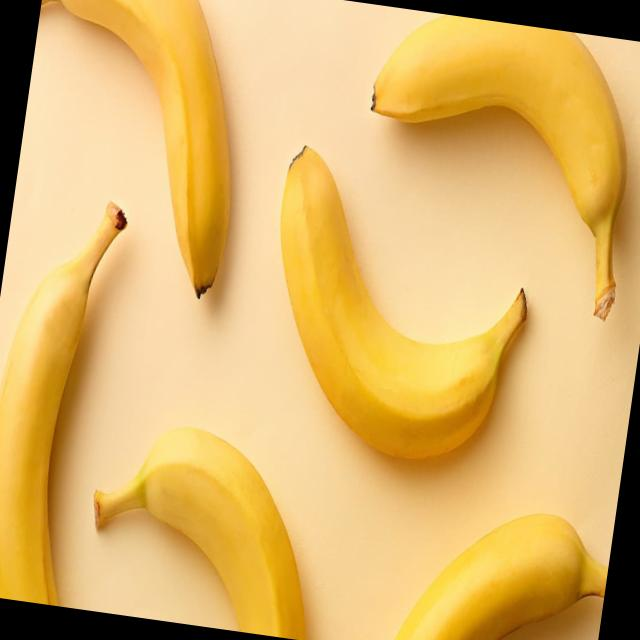banana: (230, 144, 550, 497), (340, 5, 640, 324), (2, 0, 264, 311), (79, 396, 363, 640), (0, 192, 151, 606), (393, 470, 617, 640)
